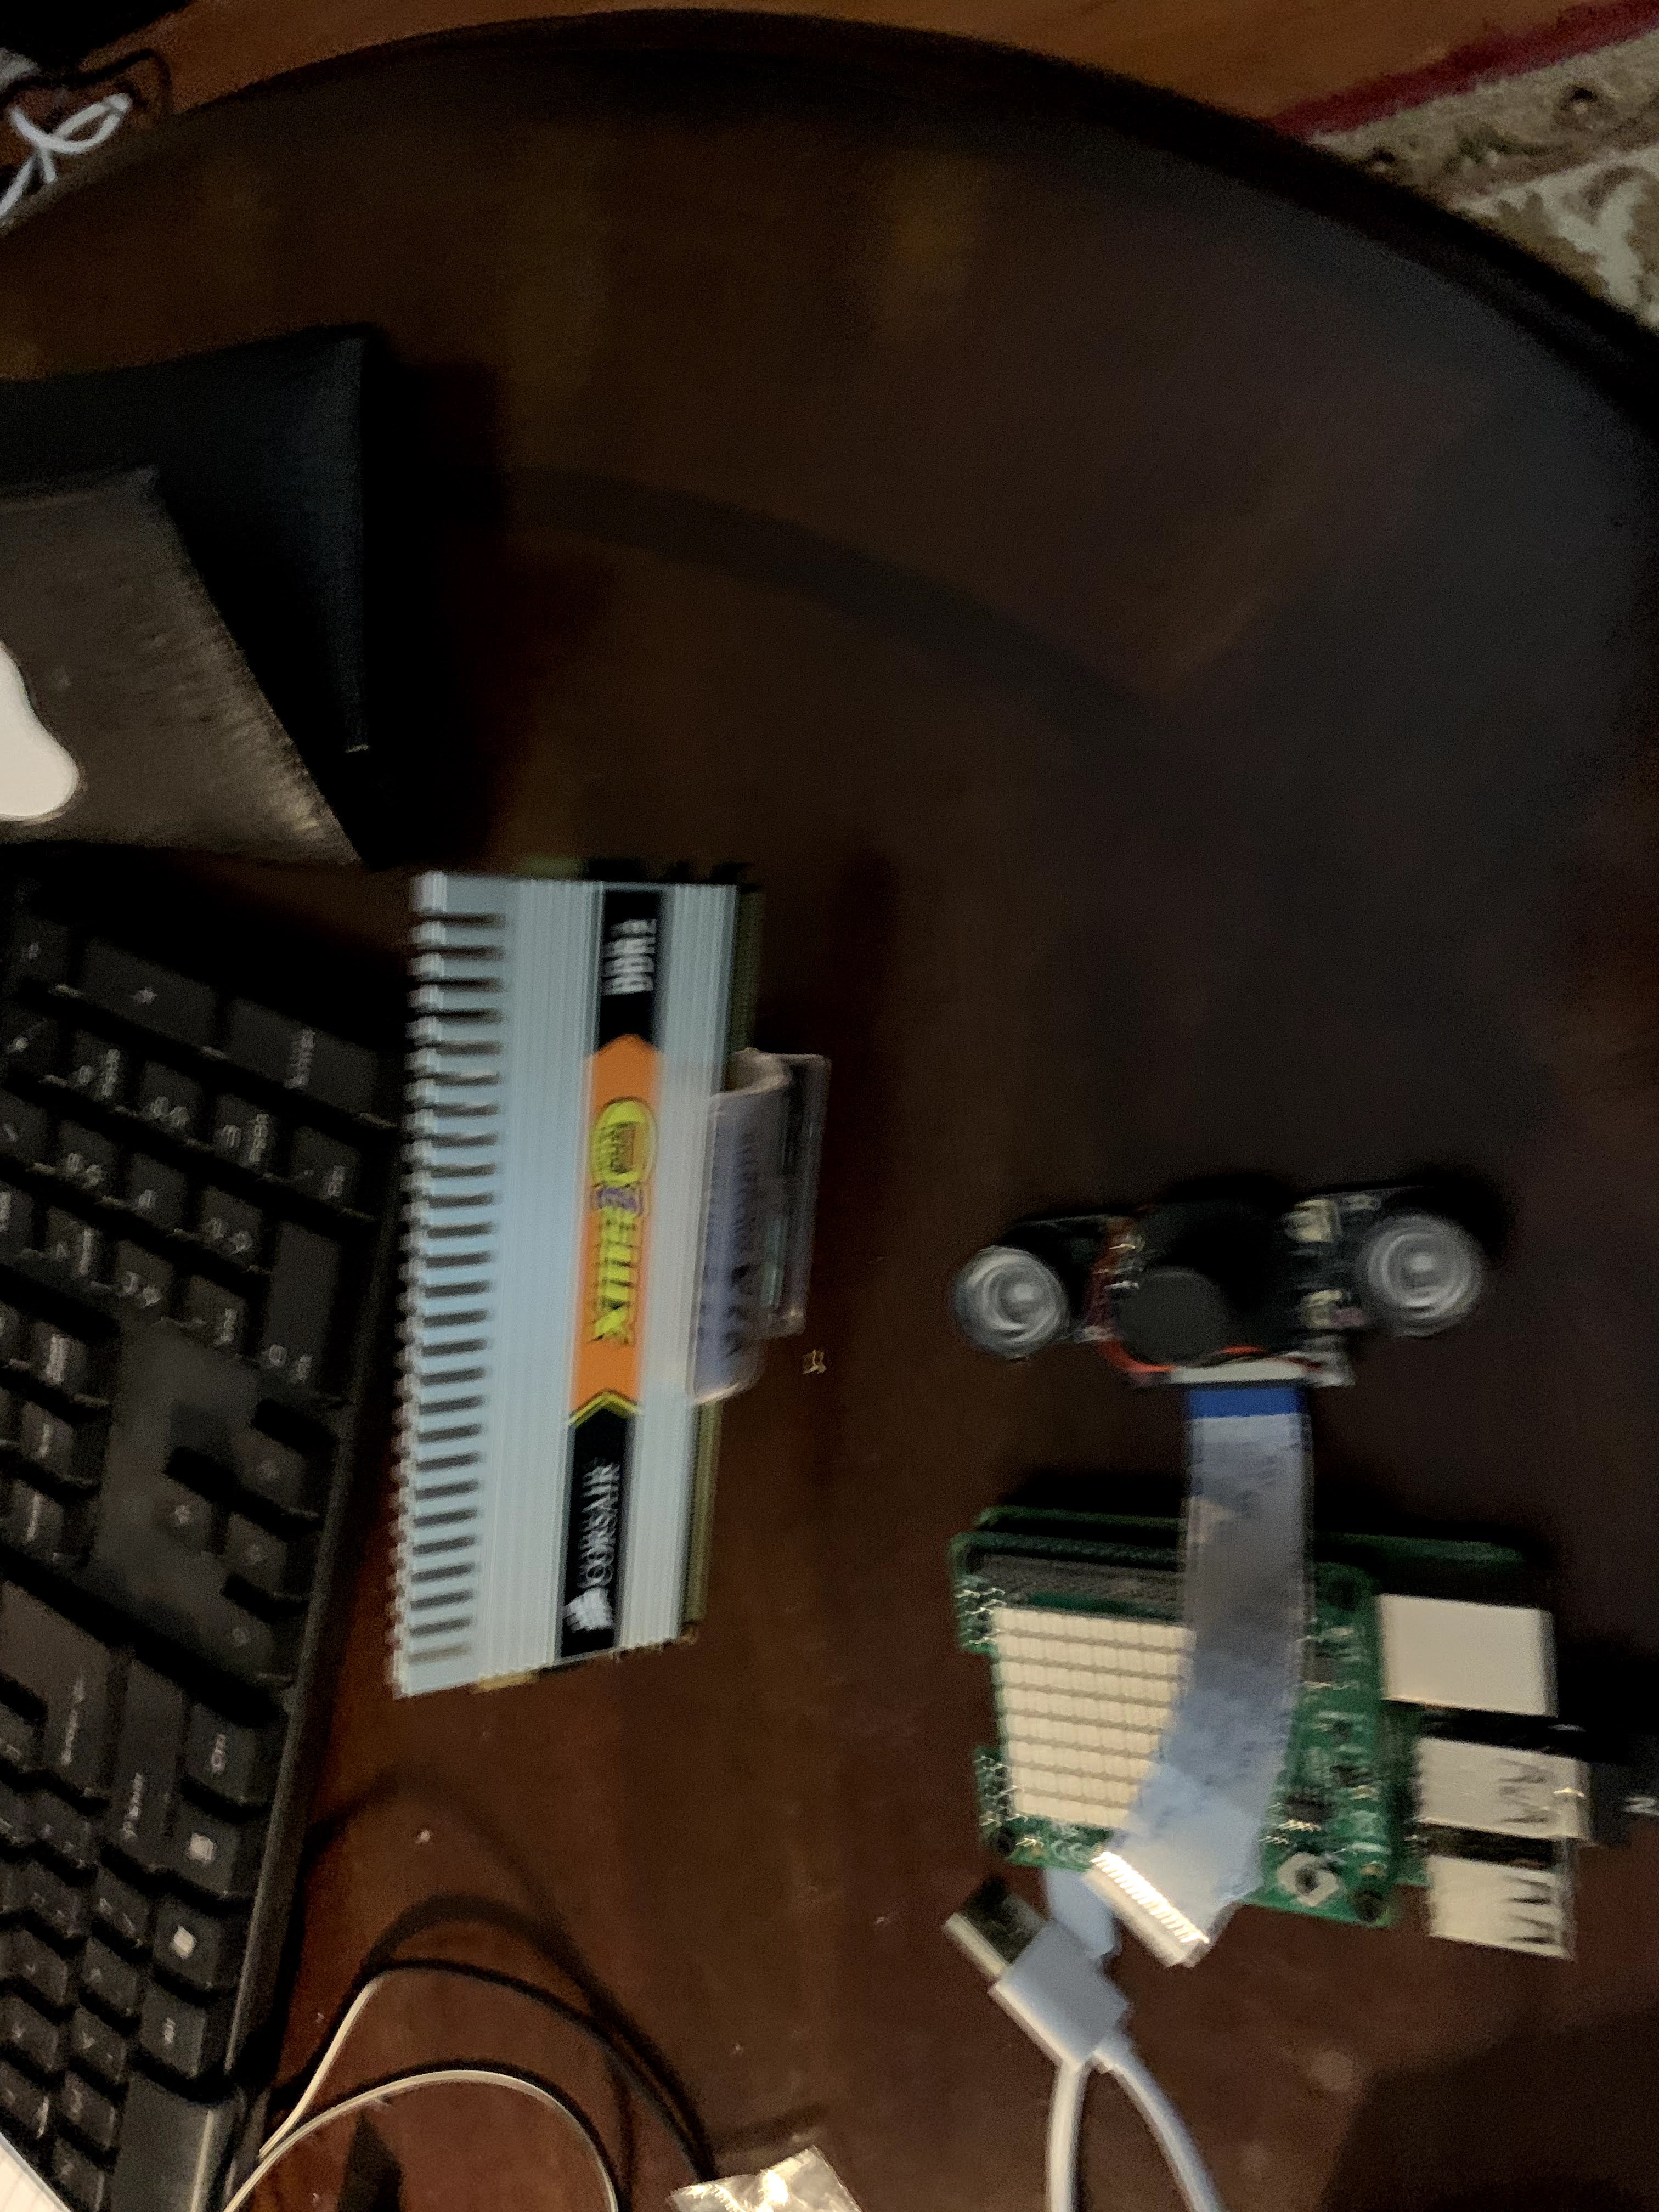Space-debris-medium: (394, 840, 732, 1714)
